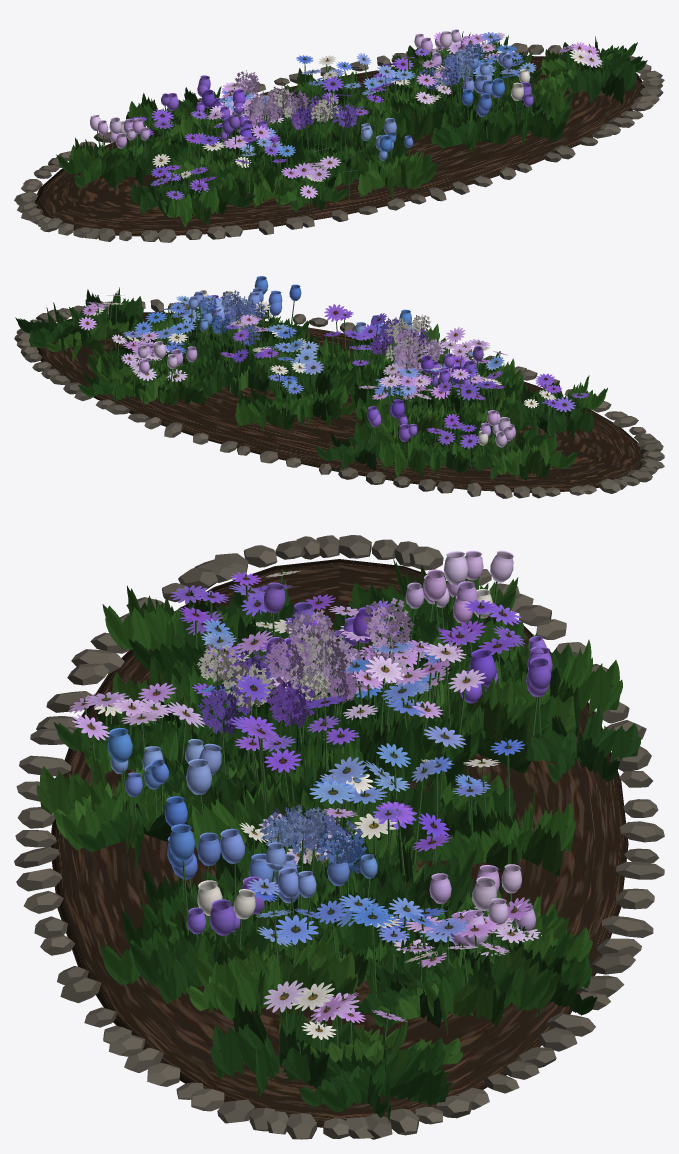
File: flower-bed-6.glb
3 views of the same model, one above another, from view 1: azimuth 30°, elevation 25°; view 2: azimuth 150°, elevation 25°; view 3: azimuth 270°, elevation 25° (orthographic). The views are drawn at different scales.
Parts seen in each view (by area): view 1: flower-bed-6_FlowerFoliage, flower-bed-6_Mulch, flower-bed-6_FlowerDaisy, flower-bed-6_EdgeStone, flower-bed-6_FlowerCup, flower-bed-6_FlowerFloret, flower-bed-6_FlowerStem; view 2: flower-bed-6_FlowerFoliage, flower-bed-6_Mulch, flower-bed-6_FlowerDaisy, flower-bed-6_EdgeStone, flower-bed-6_FlowerCup, flower-bed-6_FlowerFloret, flower-bed-6_FlowerStem; view 3: flower-bed-6_FlowerFoliage, flower-bed-6_Mulch, flower-bed-6_FlowerDaisy, flower-bed-6_EdgeStone, flower-bed-6_FlowerCup, flower-bed-6_FlowerFloret, flower-bed-6_FlowerStem.
Part boxes in pixels (<box>): flower-bed-6_FlowerFoliage: <box>56,31,647,227</box>; flower-bed-6_Mulch: <box>35,56,645,236</box>; flower-bed-6_FlowerDaisy: <box>131,32,603,199</box>; flower-bed-6_EdgeStone: <box>14,43,664,242</box>; flower-bed-6_FlowerCup: <box>90,29,533,160</box>; flower-bed-6_FlowerFloret: <box>235,42,483,129</box>; flower-bed-6_FlowerStem: <box>97,34,591,217</box>; flower-bed-6_FlowerFoliage: <box>15,287,607,480</box>; flower-bed-6_Mulch: <box>37,312,643,492</box>; flower-bed-6_FlowerDaisy: <box>78,295,589,448</box>; flower-bed-6_EdgeStone: <box>14,299,664,498</box>; flower-bed-6_FlowerCup: <box>137,276,515,447</box>; flower-bed-6_FlowerFloret: <box>199,290,442,385</box>; flower-bed-6_FlowerStem: <box>87,293,580,474</box>; flower-bed-6_FlowerFoliage: <box>36,558,640,1122</box>; flower-bed-6_Mulch: <box>50,559,628,1127</box>; flower-bed-6_FlowerDaisy: <box>69,570,541,1039</box>; flower-bed-6_EdgeStone: <box>14,535,664,1139</box>; flower-bed-6_FlowerCup: <box>107,550,552,946</box>; flower-bed-6_FlowerFloret: <box>196,598,414,874</box>; flower-bed-6_FlowerStem: <box>84,569,541,1051</box>.
Size of the model in its own units: 5.16 by 0.7316 by 2.36.
7 materials, 4 textured.
